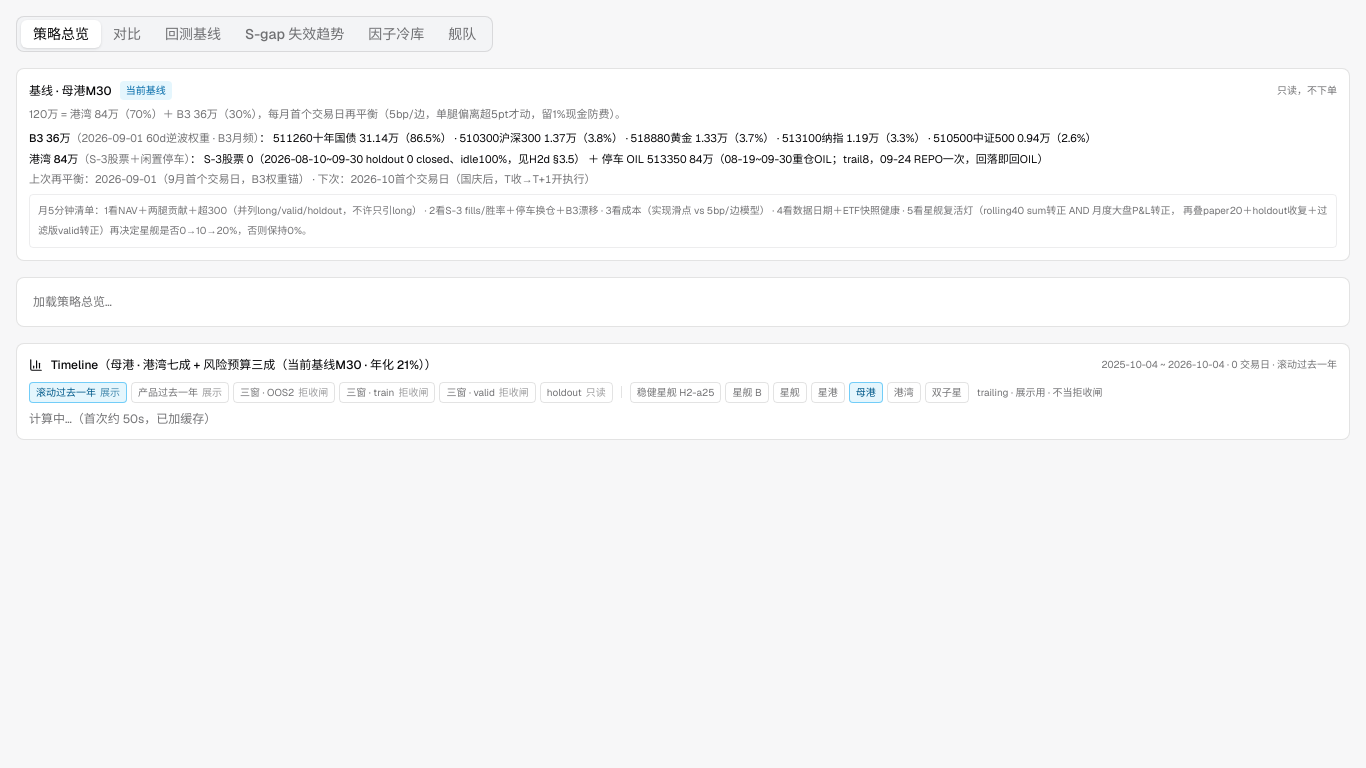
BacktestPage › defaults the timeline to the 母港M30 baseline
Click the button "对比" at (127, 34), box [101, 20, 153, 48]
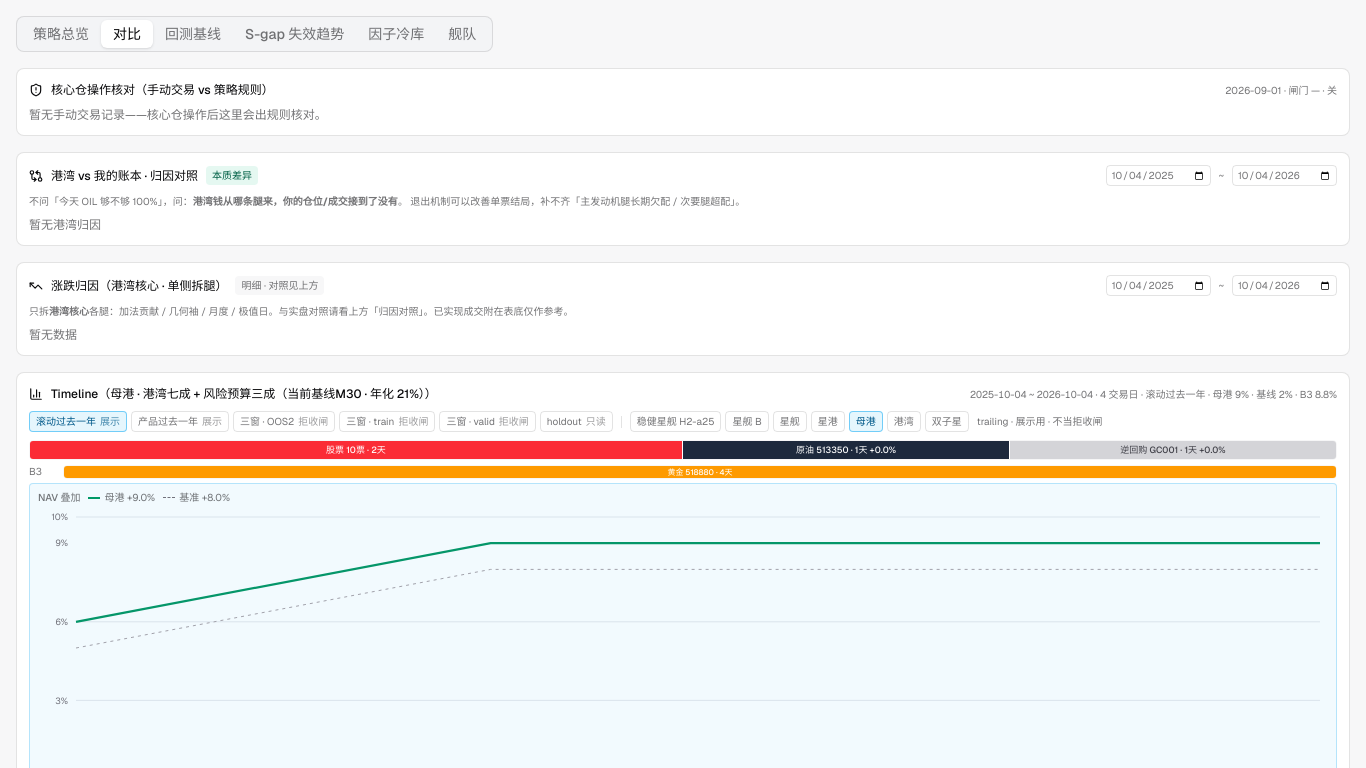
expect the text "Timeline（母港" is shown: met, box [29, 385, 1337, 403]
